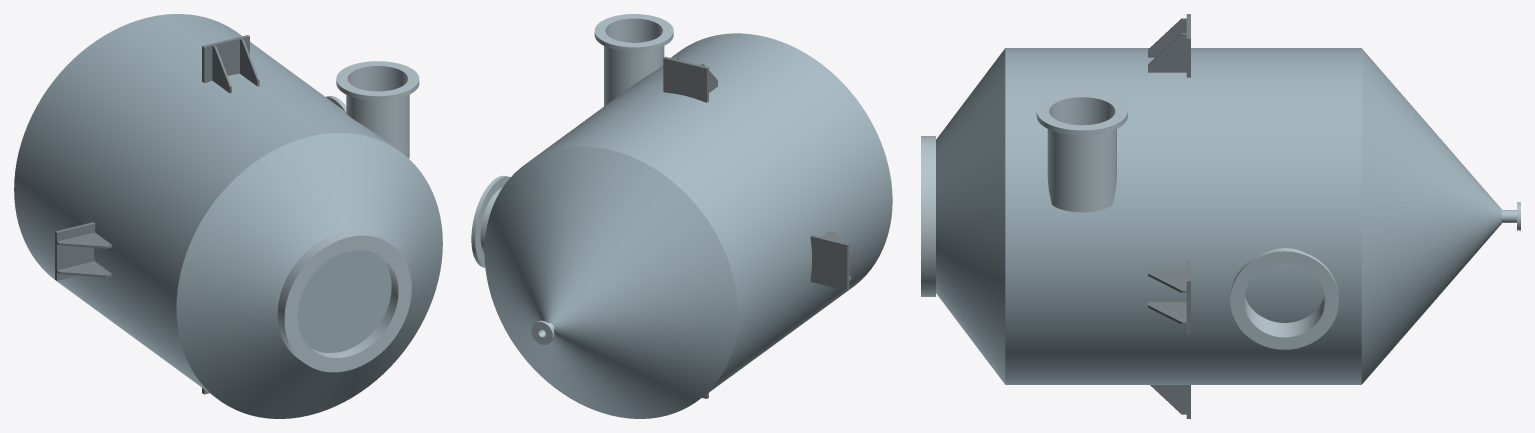
3 renders of one model, left to right at view 1: azimuth 30°, elevation 25°; view 2: azimuth 150°, elevation 25°; view 3: azimuth 270°, elevation 25°, orthographic. The views are drawn at different scales.
Parts seen in each view (by area): view 1: 本体_直筒, 本体_收口封头, 接口_顶部法兰, 接口_北侧偏东接管, 接口_北侧偏东法兰, 托耳_除雾器3底板, 托耳_除雾器2底板, 托耳_除雾器3筋板-1, 托耳_除雾器3筋板+1, 托耳_除雾器2筋板+1, 托耳_除雾器2筋板-1; view 2: 本体_直筒, 本体_下锥段, 接口_北侧偏东接管, 托耳_除雾器3底板, 接口_北侧偏东法兰, 托耳_除雾器2底板, 接口_东侧下口法兰, 接口_锥底排口法兰; view 3: 本体_直筒, 本体_下锥段, 本体_收口封头, 接口_北侧偏东接管, 接口_东侧下口法兰, 接口_顶部法兰, 接口_北侧偏东法兰, 接口_东侧下口接管, 托耳_除雾器2筋板-1, 托耳_除雾器4筋板+1, 托耳_除雾器1筋板+1, 托耳_除雾器1筋板-1 (+1 smaller).
Part boxes in pixels (box(x1,y1,x2,y2)): 本体_直筒: box(14, 14, 395, 395); 本体_收口封头: box(176, 133, 442, 418); 接口_顶部法兰: box(277, 230, 411, 372); 接口_北侧偏东接管: box(346, 70, 409, 158); 接口_北侧偏东法兰: box(336, 61, 419, 100); 托耳_除雾器3底板: box(55, 222, 95, 280); 托耳_除雾器2底板: box(202, 35, 249, 82); 托耳_除雾器3筋板-1: box(57, 232, 112, 248); 托耳_除雾器3筋板+1: box(57, 261, 112, 277); 托耳_除雾器2筋板+1: box(212, 45, 231, 93); 托耳_除雾器2筋板-1: box(240, 38, 259, 86); 本体_直筒: box(529, 33, 892, 397); 本体_下锥段: box(484, 146, 737, 418); 接口_北侧偏东接管: box(604, 23, 664, 106); 托耳_除雾器3底板: box(810, 235, 849, 290); 接口_北侧偏东法兰: box(594, 14, 673, 51); 托耳_除雾器2底板: box(663, 56, 708, 102); 接口_东侧下口法兰: box(471, 175, 510, 267); 接口_锥底排口法兰: box(531, 320, 554, 344); 本体_直筒: box(1005, 48, 1361, 384); 本体_下锥段: box(1361, 48, 1501, 384); 本体_收口封头: box(936, 48, 1005, 384); 接口_北侧偏东接管: box(1047, 102, 1116, 212); 接口_东侧下口法兰: box(1230, 249, 1338, 349); 接口_顶部法兰: box(921, 136, 935, 296); 接口_北侧偏东法兰: box(1036, 92, 1127, 135); 接口_东侧下口接管: box(1244, 248, 1325, 335); 托耳_除雾器2筋板-1: box(1148, 33, 1186, 72); 托耳_除雾器4筋板+1: box(1150, 385, 1186, 414); 托耳_除雾器1筋板+1: box(1148, 270, 1186, 292); 托耳_除雾器1筋板-1: box(1148, 302, 1186, 324).
Bounding box in the file's own units: 2.3 × 2.24 × 3.2.
